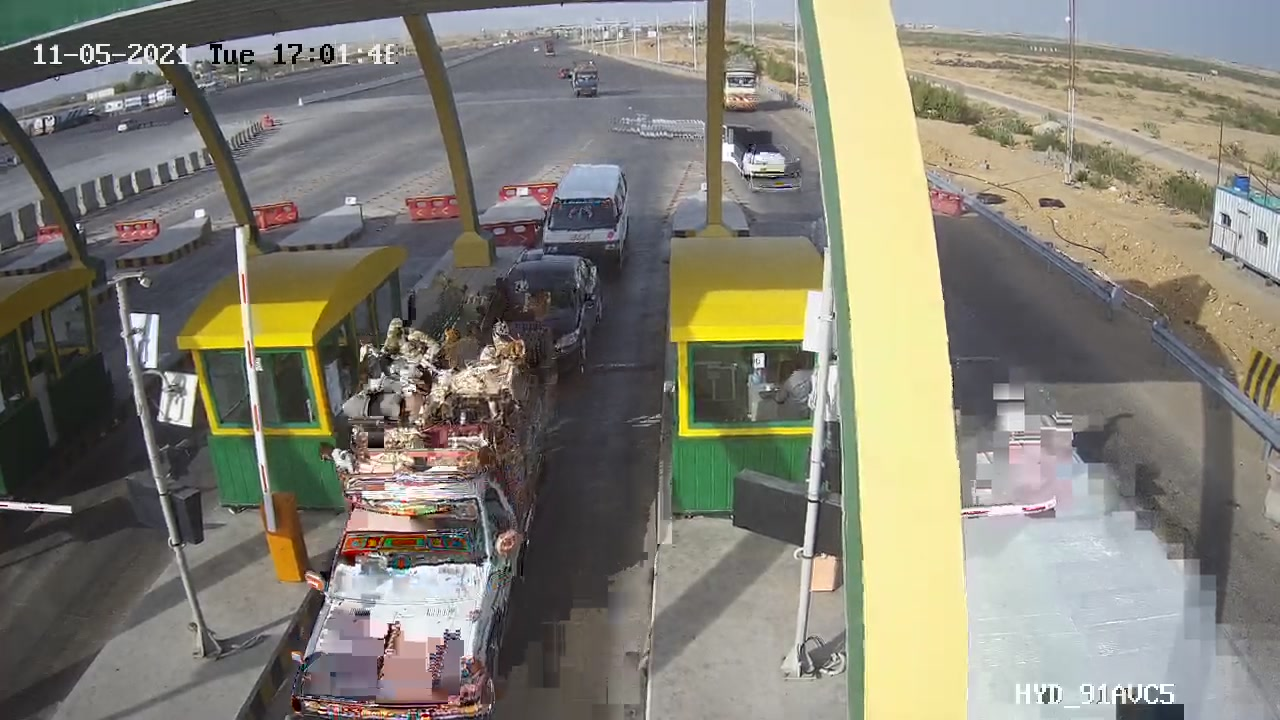F2: (526, 152, 642, 294)
